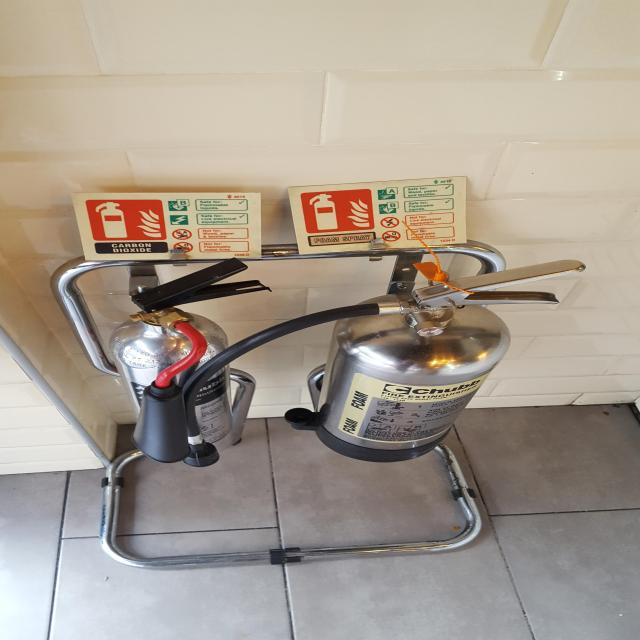fire_extinguisher: (160, 256, 591, 472), (104, 254, 272, 462)
